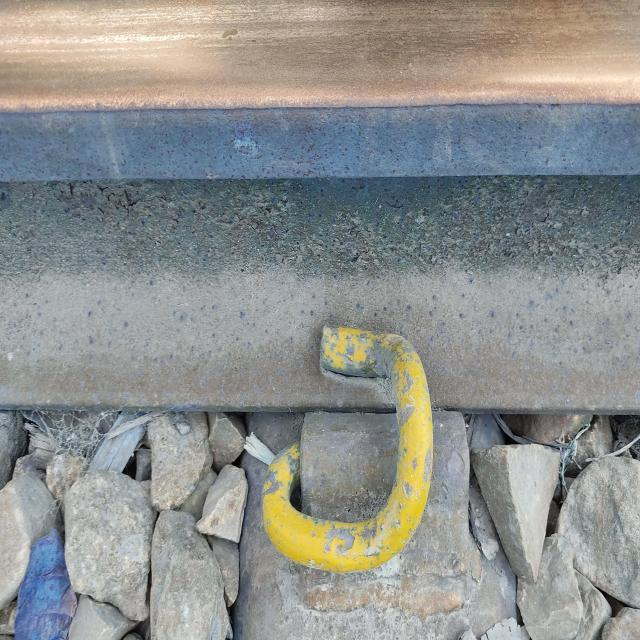Good Fasteners: (246, 300, 505, 621)
